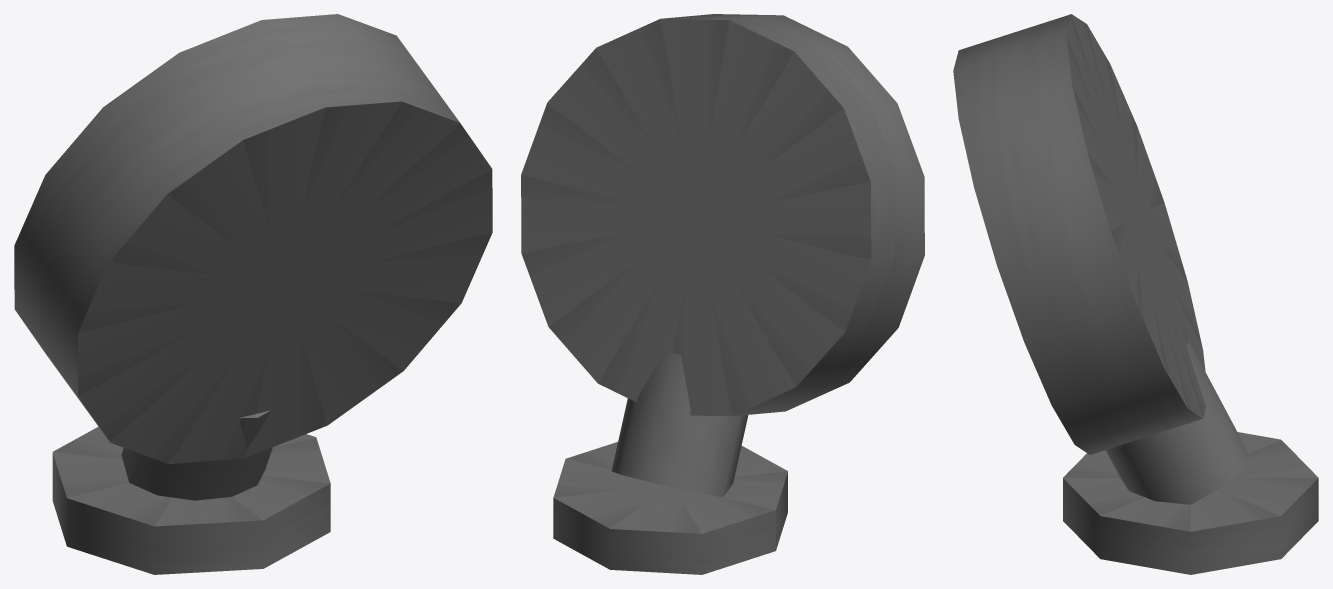
Rendered from mastarmcurve_8x2_c3_down.obj.
The picture shows the model from 3 angles, left to right: view 1: azimuth 30°, elevation 25°; view 2: azimuth 150°, elevation 25°; view 3: azimuth 270°, elevation 25°; orthographic projection. The views are drawn at different scales.
Visible parts, largest first — view 1: mastarm_8x2_c3_down; view 2: mastarm_8x2_c3_down; view 3: mastarm_8x2_c3_down.
Boxes of the visible parts, left/top/right/bottom form: mastarm_8x2_c3_down: left=14, top=14, right=492, bottom=574; mastarm_8x2_c3_down: left=521, top=14, right=924, bottom=574; mastarm_8x2_c3_down: left=953, top=14, right=1318, bottom=574.
Size of the model in its own units: 0.6657 by 0.8391 by 0.5714.
